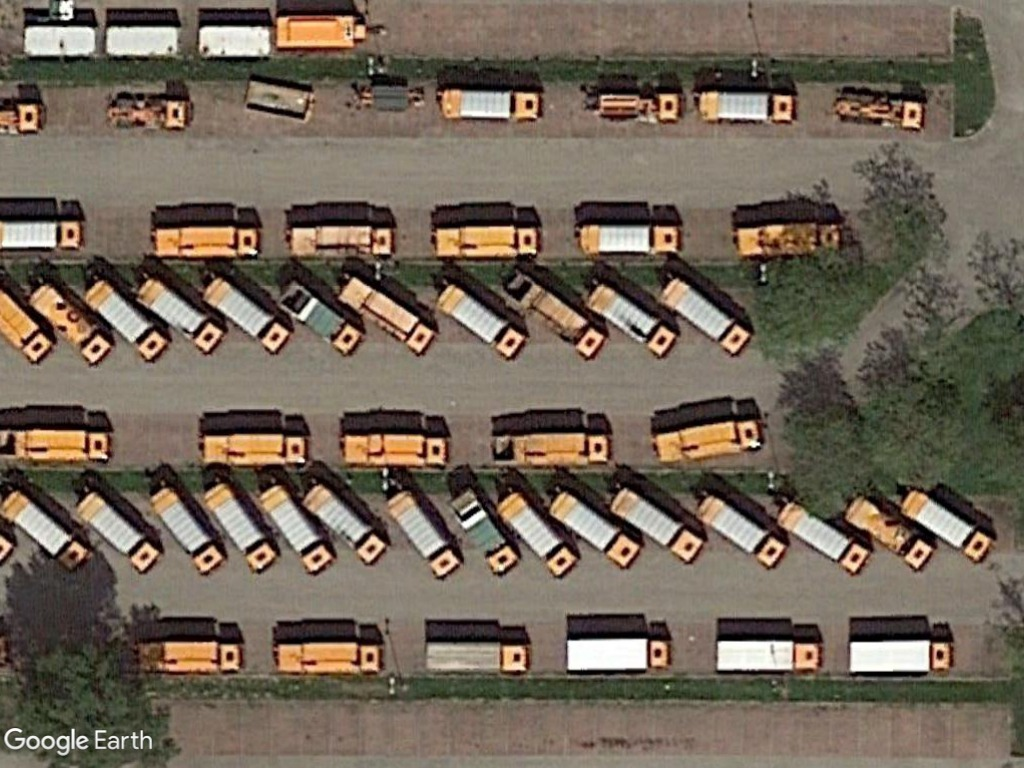truck: (583, 277, 681, 364), (25, 277, 117, 369), (338, 275, 438, 359), (0, 487, 93, 575), (199, 475, 280, 576), (608, 481, 706, 564), (433, 278, 530, 361), (302, 477, 388, 570), (547, 487, 643, 570), (661, 273, 754, 358), (203, 270, 294, 356), (77, 488, 163, 579), (385, 486, 464, 585), (693, 487, 787, 570), (777, 499, 874, 578), (82, 278, 171, 362), (137, 276, 228, 358), (498, 487, 579, 579), (150, 482, 228, 577), (259, 482, 334, 577), (904, 487, 993, 564), (653, 418, 766, 463), (561, 633, 673, 677), (711, 634, 825, 677), (134, 634, 248, 676), (269, 638, 385, 679), (420, 637, 535, 678), (285, 221, 400, 261), (154, 222, 267, 262), (845, 637, 957, 677), (5, 426, 114, 467), (435, 221, 544, 261), (204, 430, 309, 471), (698, 86, 802, 126), (438, 86, 547, 124), (347, 431, 451, 470), (509, 433, 616, 470), (579, 221, 682, 259), (1, 214, 86, 253)
